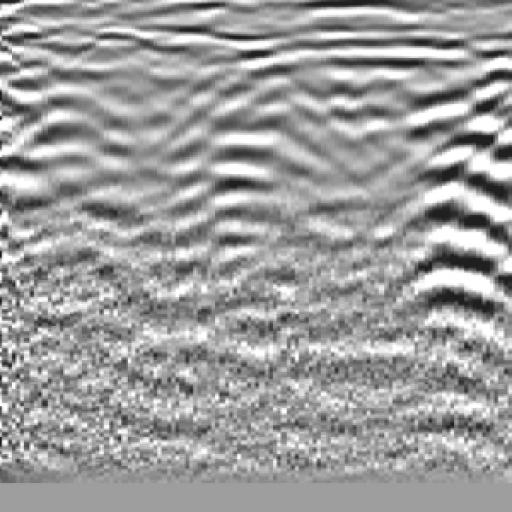metalic: (169, 19, 325, 262)
nonmetalic: (397, 51, 512, 296)
